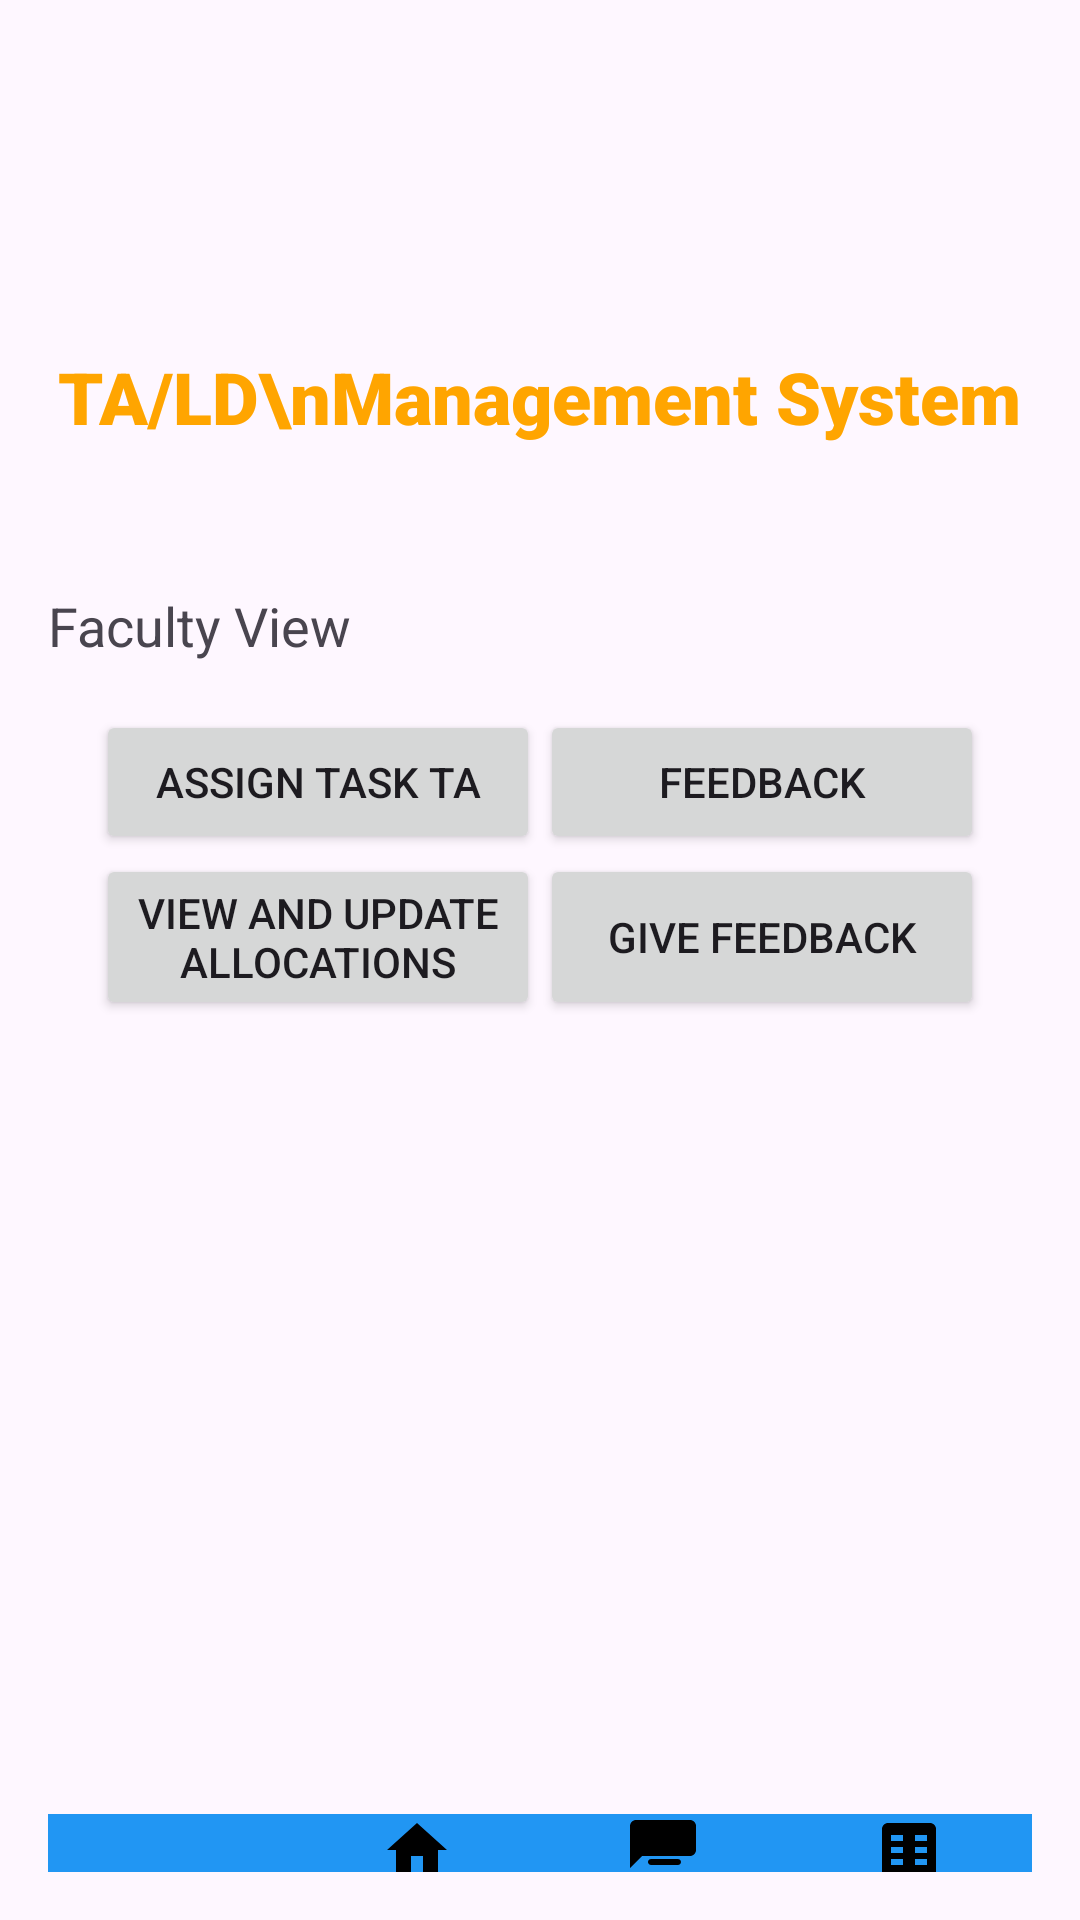

Named icons in this screenshot (1080 × 1920) and their centers, point (x, y):
feedback: point (663, 1843)
home: point (417, 1843)
